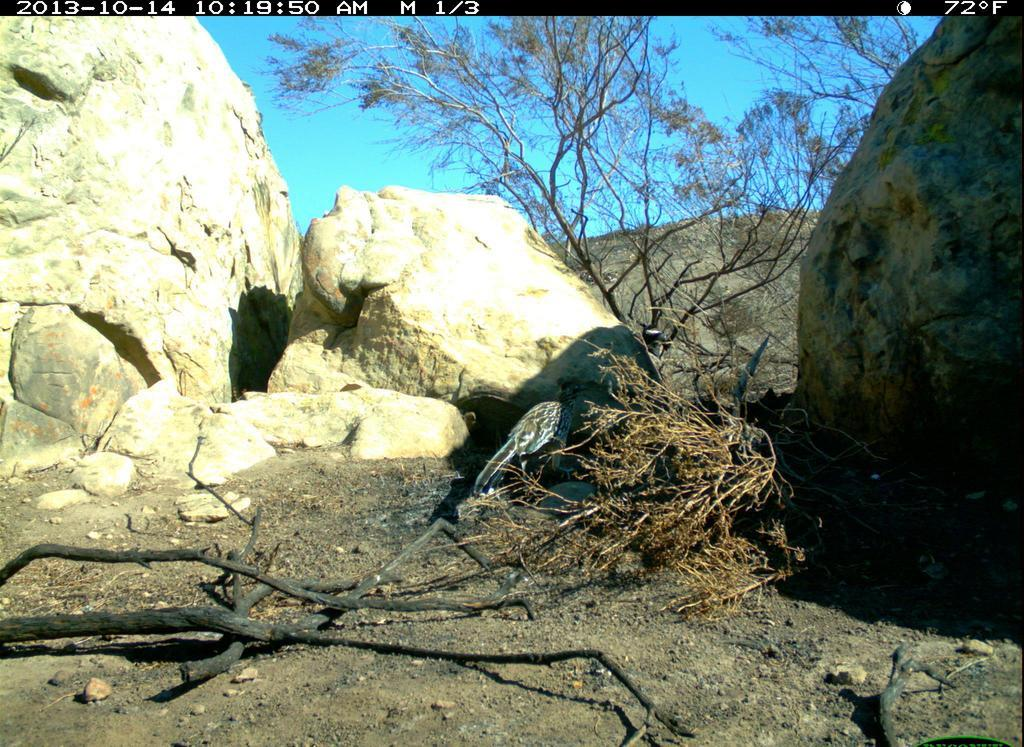bird: (466, 377, 596, 492)
